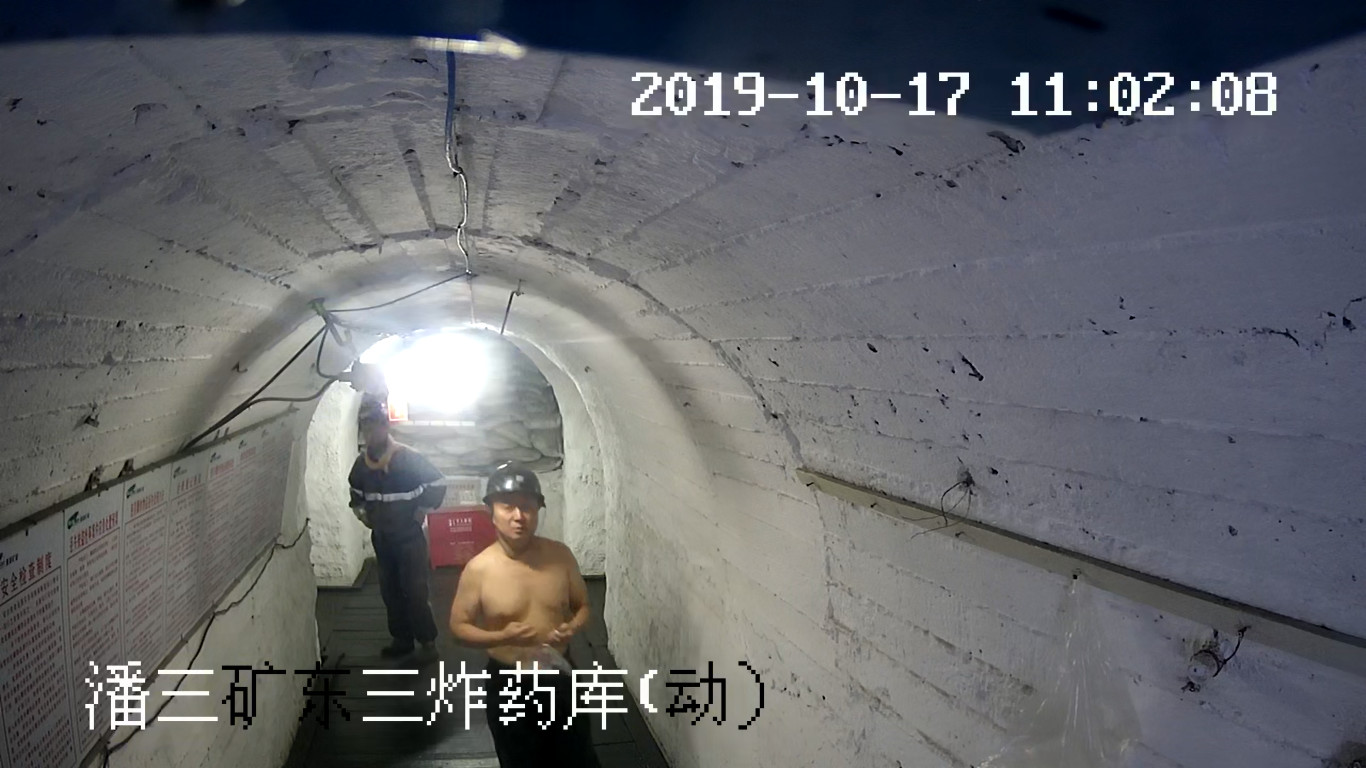helmet: (483, 459, 548, 508), (357, 398, 390, 429)
